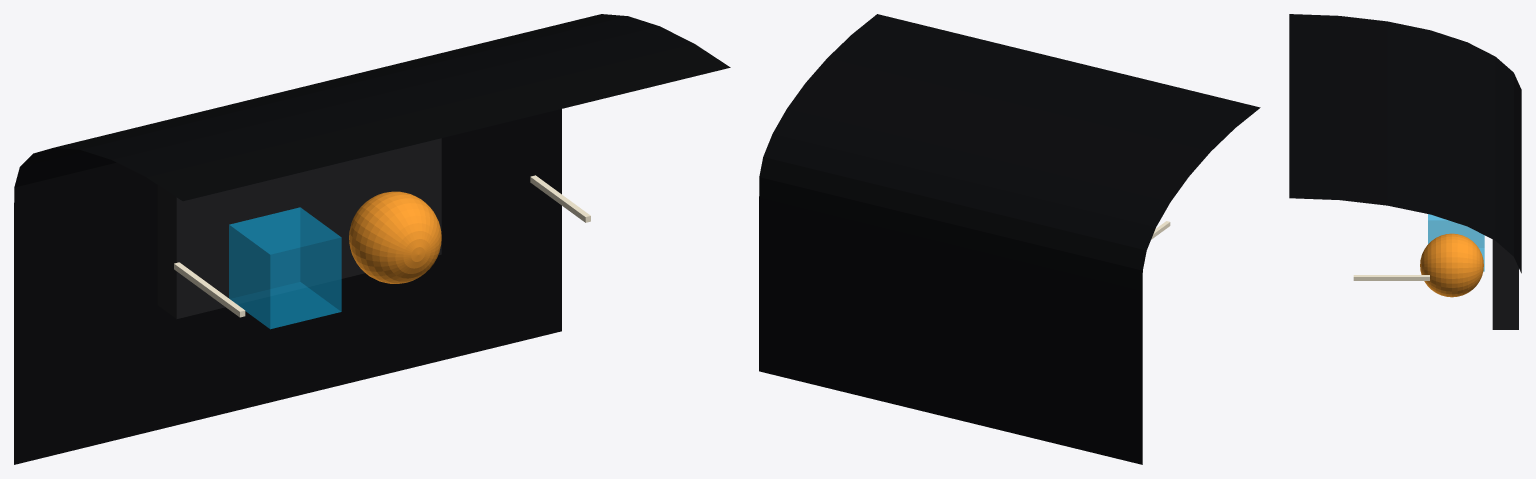
3 renders of one model, left to right at view 1: azimuth 30°, elevation 25°; view 2: azimuth 150°, elevation 25°; view 3: azimuth 270°, elevation 25°, orthographic. The views are drawn at different scales.
Visible parts, largest first — view 1: photoreal_product_studio; view 2: photoreal_product_studio; view 3: photoreal_product_studio.
Boxes of the visible parts, bbox=[...] form: photoreal_product_studio: bbox=[14, 14, 730, 464]; photoreal_product_studio: bbox=[759, 14, 1260, 464]; photoreal_product_studio: bbox=[1289, 14, 1521, 329].
Bounding box in the file's own units: 6 × 4.05 × 3.2.
